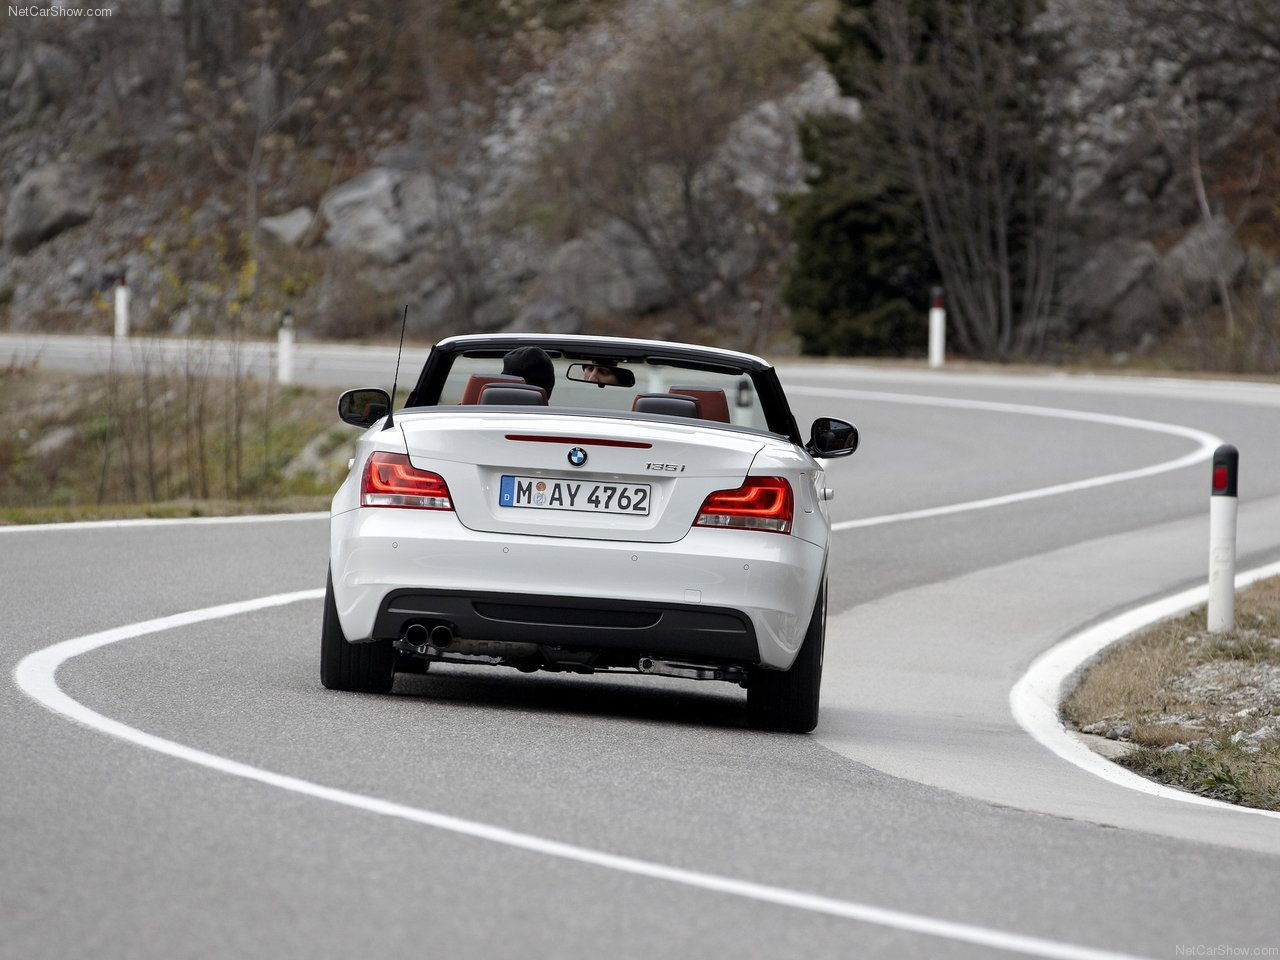bmw: (309, 309, 861, 755)
